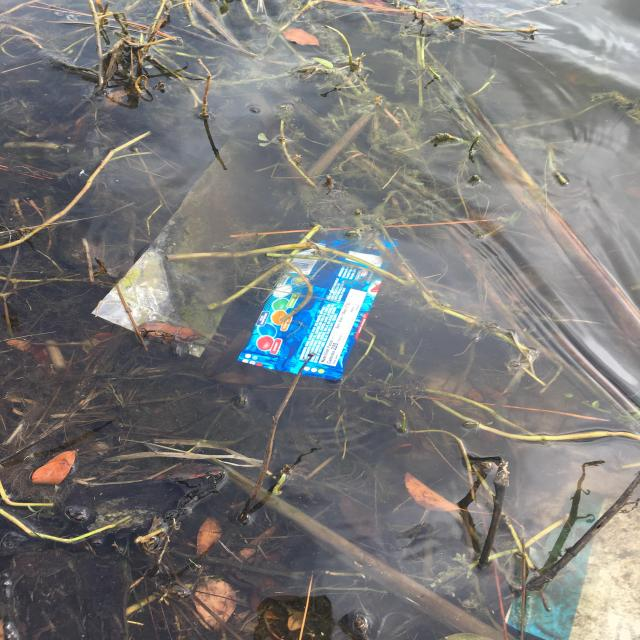litter: (92, 144, 328, 356), (237, 233, 397, 377)
